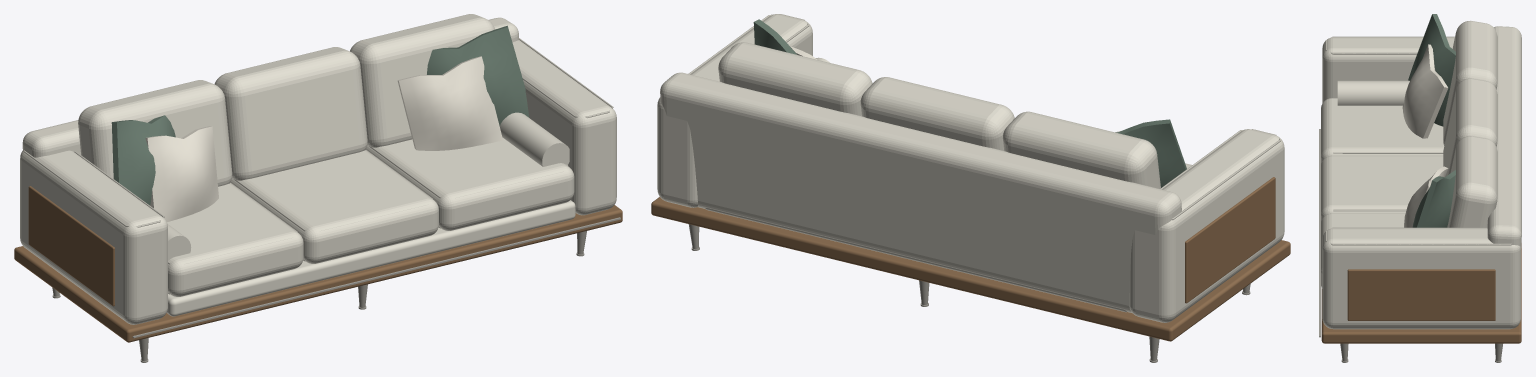
The model's file is milano-chalk-3.glb.
3 views of the same model, side by side, from view 1: azimuth 30°, elevation 25°; view 2: azimuth 150°, elevation 25°; view 3: azimuth 270°, elevation 25° (orthographic). The views are drawn at different scales.
Size of the model in its own units: 2.2 by 0.8344 by 0.8932.
